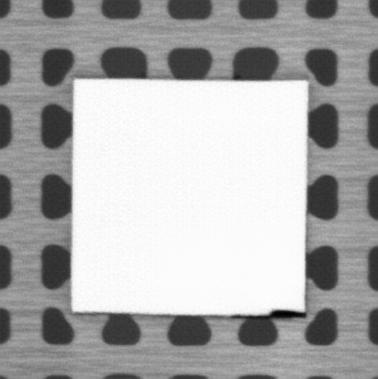DIE_BROKEN: (263, 308, 308, 319)
